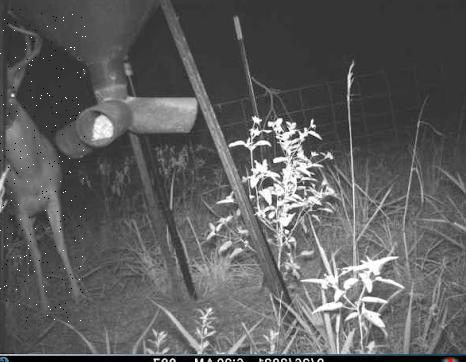Deer: (0, 9, 86, 322)
